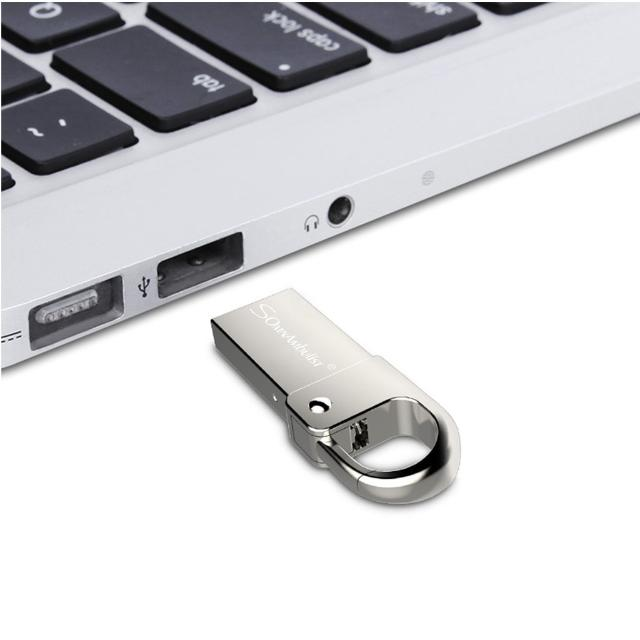USB-Flash-Drive: (210, 289, 465, 509)
